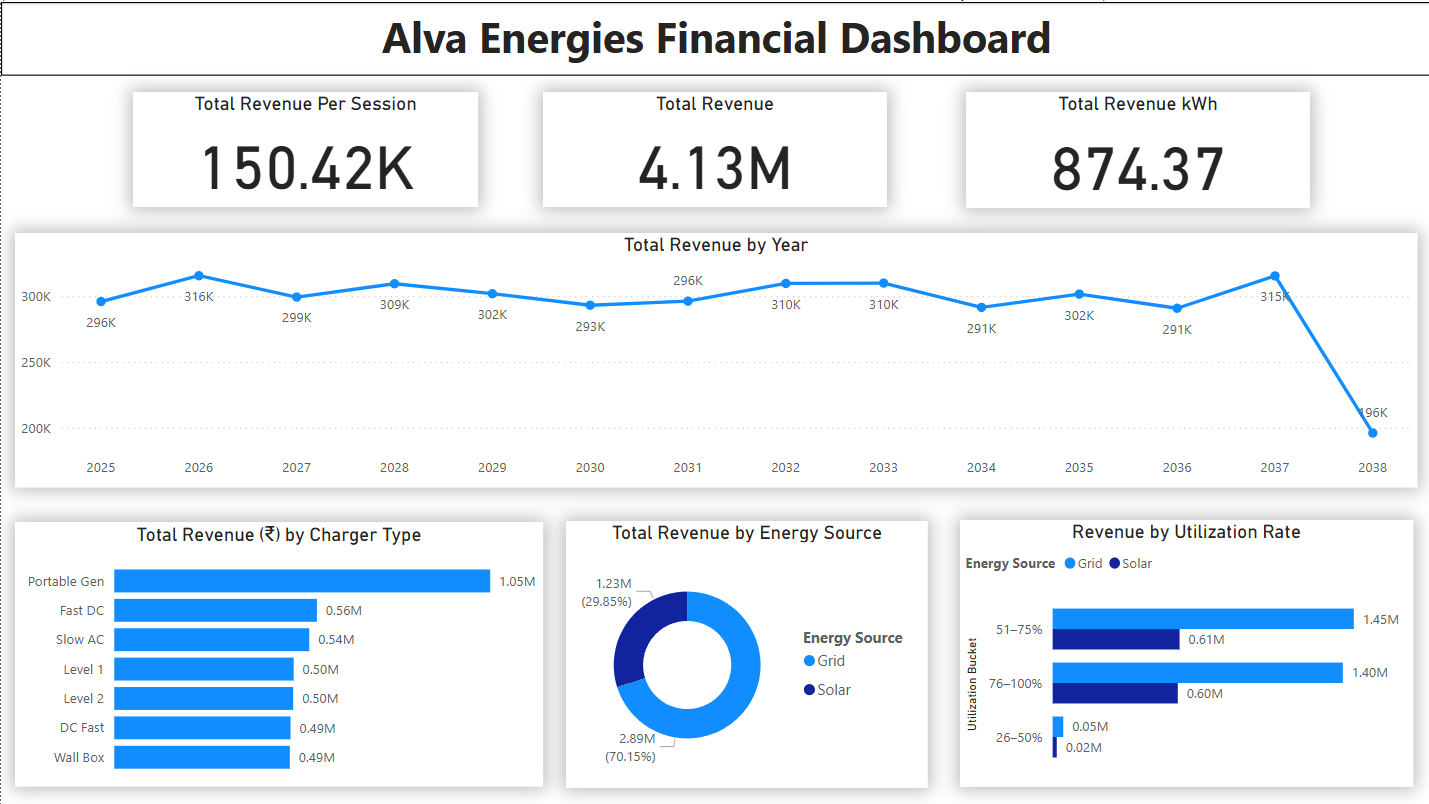

The dashboard page shown, as its layout file describes it:
{"tool":"powerbi","page":{"name":"Financial","canvas":[1280,720],"ordinal":2},"visuals":[{"type":"textbox","box":[0,0,1279.7,66.3],"z":0},{"type":"barChart","title":"Total Revenue (₹) by Charger Type","fields":{"Category":["cleaned_output(from hadoop).Charger Type"],"Y":["cleaned_output(from hadoop).Total Revenue"]},"box":[12.5,465.7,472.8,237.3],"z":1000},{"type":"card","title":"Total Revenue Per Session","fields":{"Values":["Sum(cleaned_output(from hadoop).Revenue per Session (₹))"]},"box":[118.2,80.6,309,103],"z":2000},{"type":"card","title":"Total Revenue kWh","fields":{"Values":["Sum(cleaned_output(from hadoop).Revenue/kWh)"]},"box":[864.2,80.6,308,103.9],"z":3000},{"type":"card","title":"Total Revenue","fields":{"Values":["cleaned_output(from hadoop).Total Revenue"]},"box":[485.4,80.6,308.1,103],"z":4000},{"type":"lineChart","fields":{"Category":["cleaned_output(from hadoop).Date.Variation.Date Hierarchy.Year"],"Y":["cleaned_output(from hadoop).Total Revenue"]},"box":[12.5,206.9,1255.5,228.4],"z":5000},{"type":"donutChart","fields":{"Y":["cleaned_output(from hadoop).Total Revenue"],"Category":["cleaned_output(from hadoop).Energy Source"]},"box":[506,464.8,324.2,239.1],"z":6000},{"type":"clusteredBarChart","title":"Revenue by Utilization Rate","fields":{"Y":["cleaned_output(from hadoop).Total Revenue"],"Category":["cleaned_output(from hadoop).Utilization Bucket"],"Series":["cleaned_output(from hadoop).Energy Source"]},"box":[858.8,463.9,405.7,239.1],"z":7000}]}

Visuals, with their boxes in screenshot pixels (x1, y1, x2, y2), scaled from the page's 1280x720 canvas onto the 1429x804 screenshot:
textbox: rect(0, 0, 1428, 74)
"Total Revenue (₹) by Charger Type" barChart: rect(14, 520, 542, 785)
"Total Revenue Per Session" card: rect(132, 90, 477, 205)
"Total Revenue kWh" card: rect(965, 90, 1309, 206)
"Total Revenue" card: rect(542, 90, 886, 205)
lineChart - cleaned_output(from hadoop).Date.Variation.Date Hierarchy.Year x cleaned_output(from hadoop).Total Revenue: rect(14, 231, 1416, 486)
donutChart - cleaned_output(from hadoop).Total Revenue x cleaned_output(from hadoop).Energy Source: rect(565, 519, 927, 786)
"Revenue by Utilization Rate" clusteredBarChart: rect(959, 518, 1412, 785)
